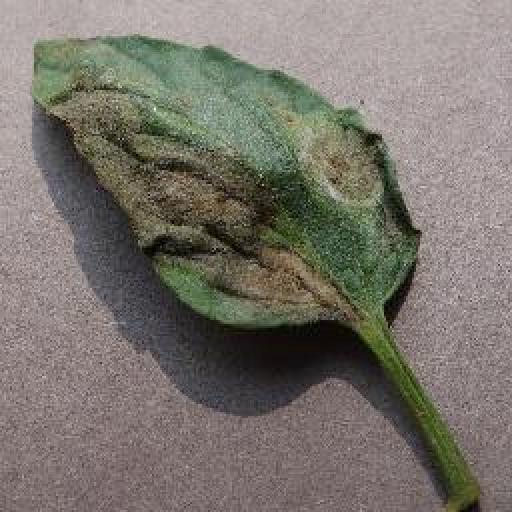disease_tomato: (32, 28, 426, 332)
